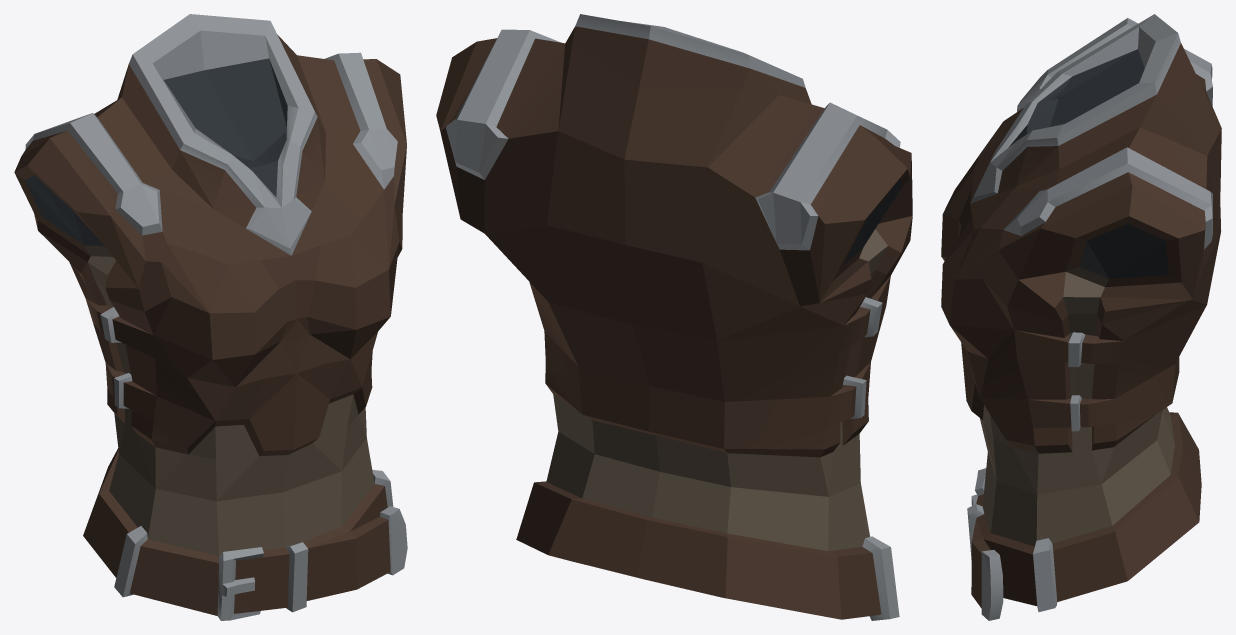
Rendered from Chr_Torso_Female_13_Static.fbx.
3 renders of one model, left to right at view 1: azimuth 30°, elevation 25°; view 2: azimuth 150°, elevation 25°; view 3: azimuth 270°, elevation 25°, orthographic. The views are drawn at different scales.
Parts seen in each view (by area): view 1: Chr_Torso_Female_13_Static; view 2: Chr_Torso_Female_13_Static; view 3: Chr_Torso_Female_13_Static.
Part boxes in pixels (bbox=[...]): Chr_Torso_Female_13_Static: bbox=[14, 14, 407, 620]; Chr_Torso_Female_13_Static: bbox=[436, 14, 912, 620]; Chr_Torso_Female_13_Static: bbox=[941, 14, 1221, 620].
Size of the model in its own units: 0.5172 by 0.6963 by 0.3299.
